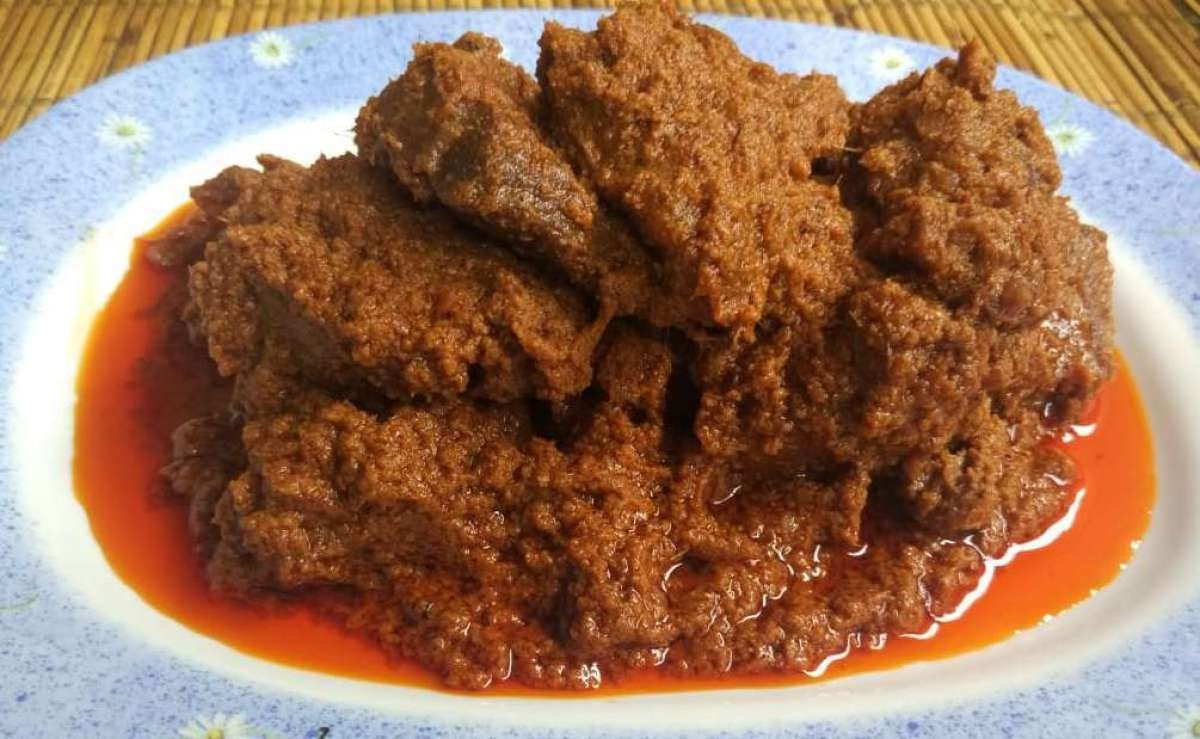rendang: (168, 75, 1114, 664)
